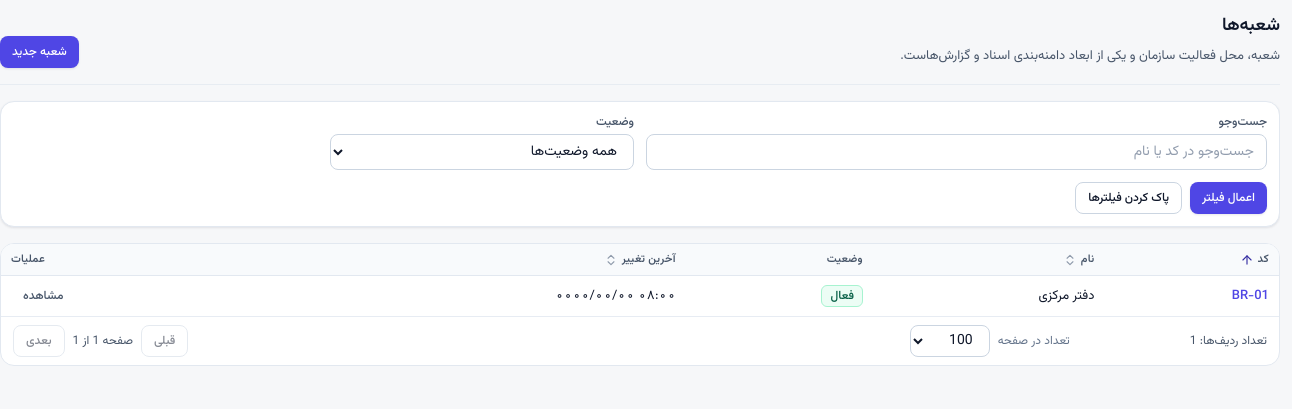
branch list › writes an applied filter into the URL and re-queries the server
Expected: the text "دفتر مرکزی" is shown, [873,276,1104,316]
Type "BR-01" into the field with placeholder "جست‌وجو در کد یا نام" at coordinates (956, 152), box [646,134,1267,170]
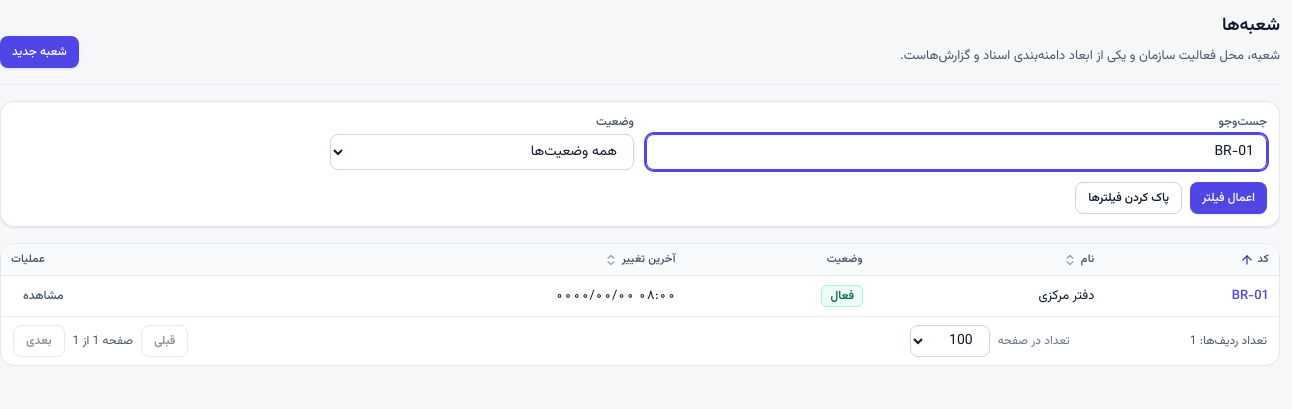
Select "فعال" in the dropdown showing "همه وضعیت‌ها" at coordinates (482, 152), box [330,134,634,170]
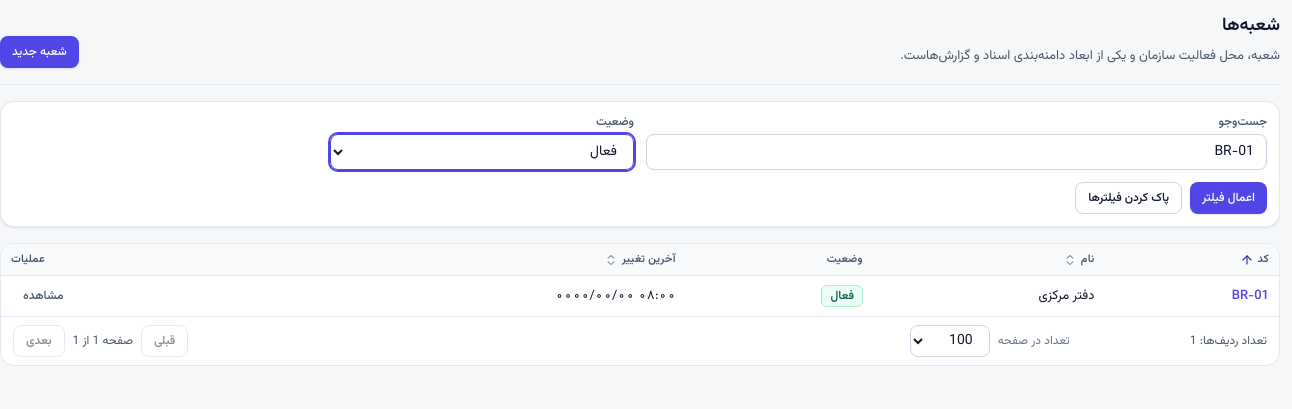
Click the button "اعمال فیلتر" at coordinates (1228, 198), box [1190,182,1267,214]
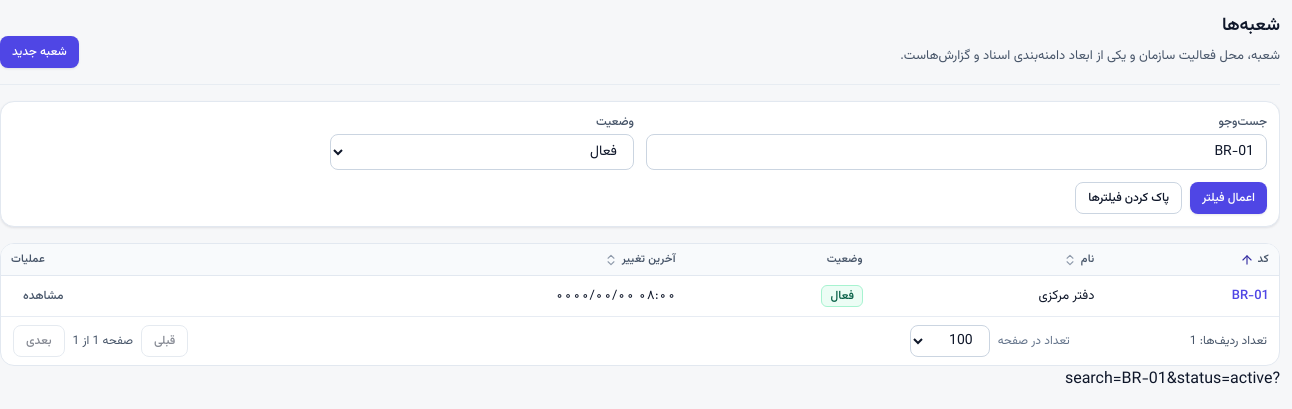
Expected: the text named "location-search" shows "search=BR-01", [1065,367,1280,392]
Expected: the text named "location-search" shows "status=active", [1065,367,1280,392]
